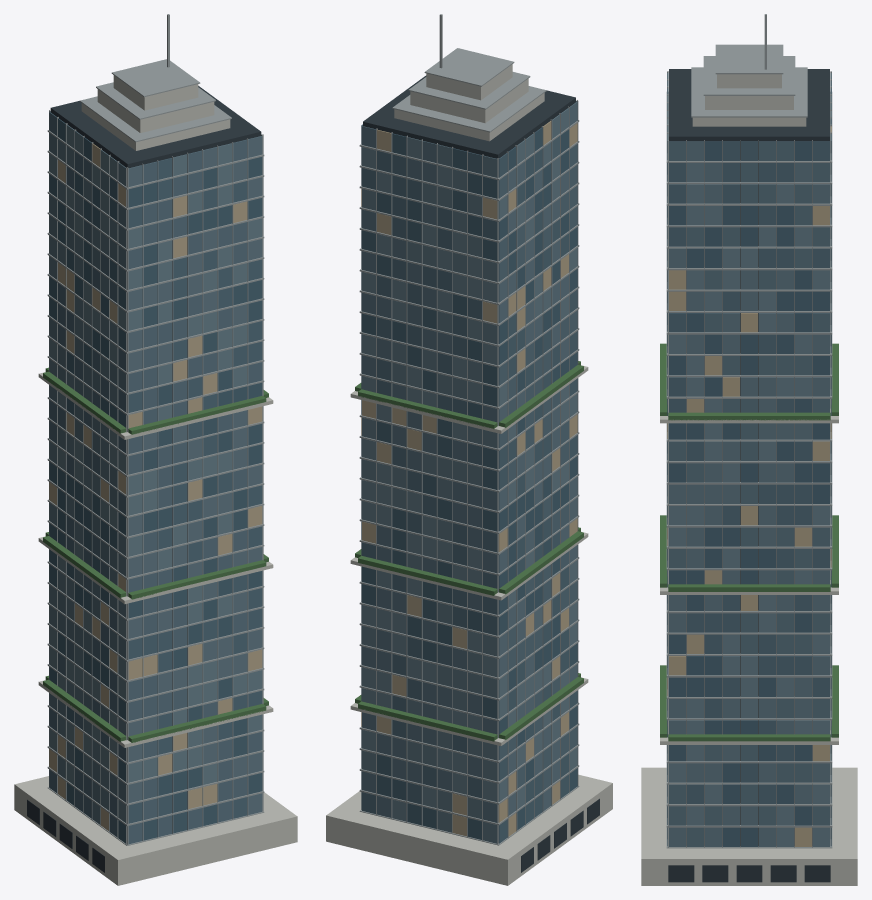
File: skyline_3.glb
The picture shows the model from 3 angles, left to right: view 1: azimuth 30°, elevation 25°; view 2: azimuth 150°, elevation 25°; view 3: azimuth 270°, elevation 25°; orthographic projection. The views are drawn at different scales.
Visible parts, largest first — view 1: champagne_aluminium, glass_2, glass_0, glass_3, glass_4, glass_1, warm_mineral_stone, interior_shade, roof_garden, shadow_recess; view 2: champagne_aluminium, glass_4, glass_2, glass_3, glass_0, glass_1, warm_mineral_stone, interior_shade, roof_garden, shadow_recess; view 3: champagne_aluminium, glass_0, glass_3, glass_2, glass_4, warm_mineral_stone, glass_1, shadow_recess, roof_garden, interior_shade.
Boxes of the visible parts, bbox=[...] form: champagne_aluminium: bbox=[47, 14, 264, 845]; glass_2: bbox=[49, 133, 262, 844]; glass_0: bbox=[49, 118, 262, 843]; glass_3: bbox=[49, 111, 262, 824]; glass_4: bbox=[49, 124, 262, 822]; glass_1: bbox=[49, 112, 262, 836]; warm_mineral_stone: bbox=[14, 75, 297, 885]; interior_shade: bbox=[49, 143, 262, 830]; roof_garden: bbox=[43, 367, 268, 742]; shadow_recess: bbox=[27, 86, 261, 872]; champagne_aluminium: bbox=[359, 14, 579, 845]; glass_4: bbox=[361, 108, 577, 821]; glass_2: bbox=[361, 126, 577, 822]; glass_3: bbox=[361, 101, 577, 843]; glass_0: bbox=[361, 127, 577, 839]; glass_1: bbox=[361, 124, 577, 843]; warm_mineral_stone: bbox=[326, 64, 612, 885]; interior_shade: bbox=[361, 121, 577, 836]; roof_garden: bbox=[355, 361, 583, 741]; shadow_recess: bbox=[363, 75, 599, 872]; champagne_aluminium: bbox=[666, 14, 832, 848]; glass_0: bbox=[667, 88, 831, 846]; glass_3: bbox=[667, 73, 831, 846]; glass_2: bbox=[667, 80, 831, 846]; glass_4: bbox=[667, 95, 831, 846]; warm_mineral_stone: bbox=[641, 74, 857, 885]; glass_1: bbox=[667, 80, 831, 846]; shadow_recess: bbox=[668, 69, 830, 882]; roof_garden: bbox=[660, 343, 838, 741]; interior_shade: bbox=[667, 126, 831, 846].
Size of the model in its own units: 32.1 by 136 by 32.
